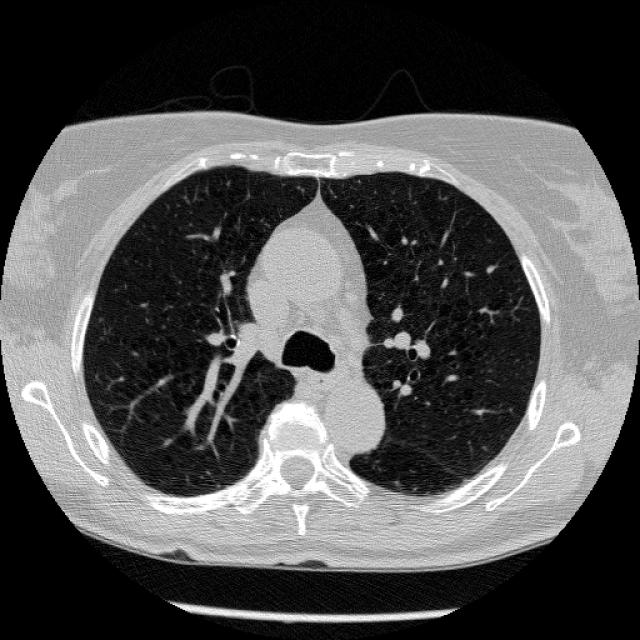nodule: (479, 259, 499, 279)
